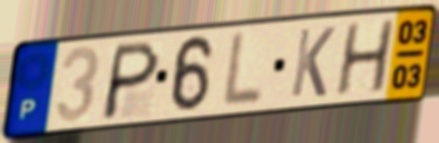3: (53, 42, 106, 127)
6: (168, 32, 217, 117)
H: (332, 17, 397, 99)
K: (287, 25, 338, 100)
L: (218, 29, 266, 110)
P: (98, 38, 164, 122)
